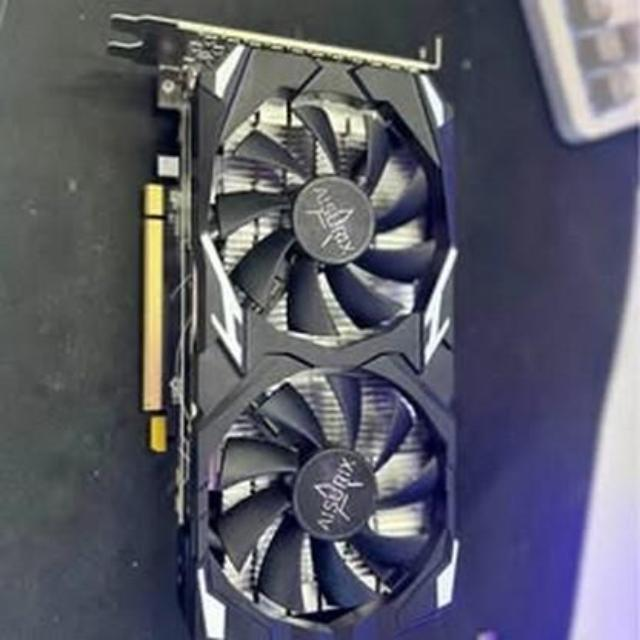GPU: (102, 0, 488, 640)
